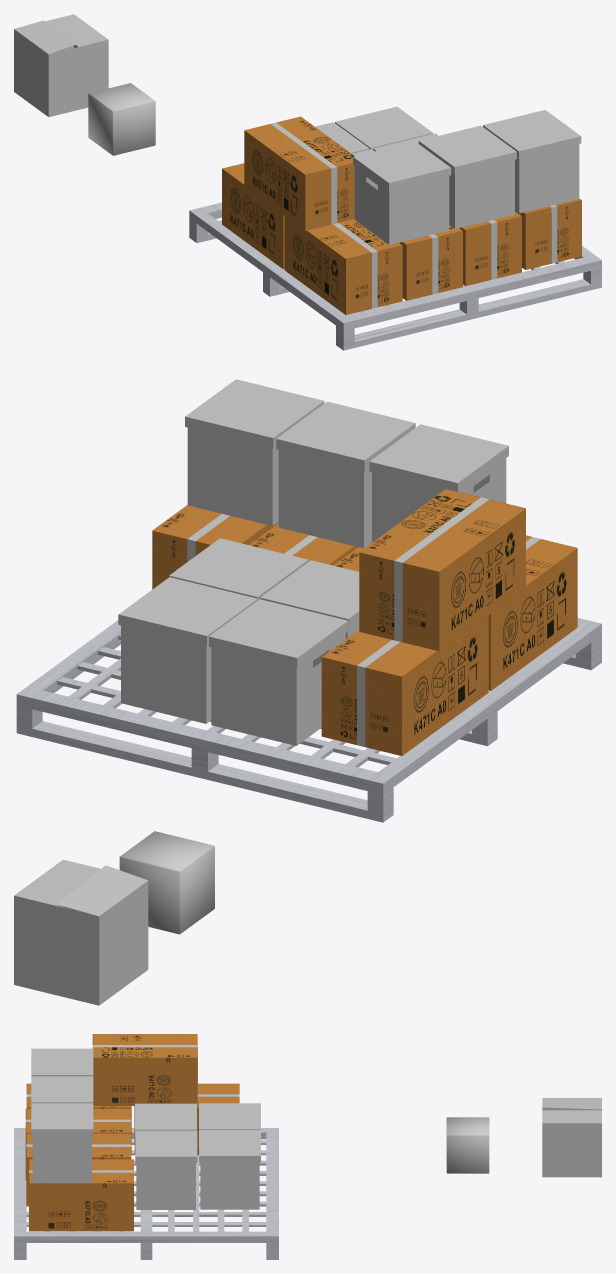
The model's file is Cajas por separado.fbx.
3 views of the same model, one above another, from view 1: azimuth 30°, elevation 25°; view 2: azimuth 150°, elevation 25°; view 3: azimuth 270°, elevation 25° (orthographic). The views are drawn at different scales.
Parts seen in each view (by area): view 1: pPlane2, polySurface15, polySurface24, Cubo, polySurface18, Box072, polySurface3, polySurface20, polySurface13, polySurface23, polySurface21, polySurface10 (+7 smaller); view 2: pPlane2, polySurface15, Cubo, polySurface3, polySurface1, polySurface24, polySurface20, polySurface13, polySurface11, Box072, polySurface2, polySurface17 (+10 smaller); view 3: pPlane2, polySurface15, polySurface10, Cubo, polySurface11, polySurface13, polySurface6, Box072, polySurface14, polySurface7, polySurface12, polySurface17 (+7 smaller).
Part boxes in pixels (left/top/right/bottom): pPlane2: left=189, top=202, right=601, bottom=350; polySurface15: left=244, top=116, right=354, bottom=230; polySurface24: left=284, top=216, right=402, bottom=314; Cubo: left=14, top=14, right=108, bottom=117; polySurface18: left=354, top=165, right=449, bottom=244; Box072: left=88, top=83, right=155, bottom=155; polySurface3: left=222, top=163, right=284, bottom=269; polySurface20: left=449, top=159, right=514, bottom=228; polySurface13: left=515, top=144, right=579, bottom=213; polySurface23: left=399, top=225, right=462, bottom=300; polySurface21: left=459, top=211, right=521, bottom=286; polySurface10: left=515, top=198, right=581, bottom=269; pPlane2: left=16, top=618, right=601, bottom=822; polySurface15: left=359, top=489, right=525, bottom=651; Cubo: left=14, top=859, right=148, bottom=1005; polySurface3: left=321, top=615, right=488, bottom=755; polySurface1: left=211, top=633, right=345, bottom=745; polySurface24: left=488, top=535, right=577, bottom=690; polySurface20: left=278, top=450, right=371, bottom=548; polySurface13: left=187, top=427, right=278, bottom=525; polySurface11: left=121, top=625, right=211, bottom=723; Box072: left=119, top=831, right=214, bottom=934; polySurface2: left=209, top=599, right=348, bottom=668; polySurface17: left=369, top=424, right=508, bottom=491; pPlane2: left=14, top=1128, right=278, bottom=1259; polySurface15: left=92, top=1034, right=197, bottom=1105; polySurface10: left=29, top=1159, right=133, bottom=1231; Cubo: left=542, top=1098, right=601, bottom=1177; polySurface11: left=200, top=1162, right=259, bottom=1209; polySurface13: left=32, top=1135, right=91, bottom=1182; polySurface6: left=136, top=1163, right=195, bottom=1209; Box072: left=446, top=1117, right=489, bottom=1173; polySurface14: left=31, top=1103, right=93, bottom=1135; polySurface7: left=135, top=1130, right=197, bottom=1162; polySurface12: left=199, top=1130, right=260, bottom=1162; polySurface17: left=31, top=1048, right=93, bottom=1076.
Size of the model in its own units: 9.43 by 21.62 by 5.12.
